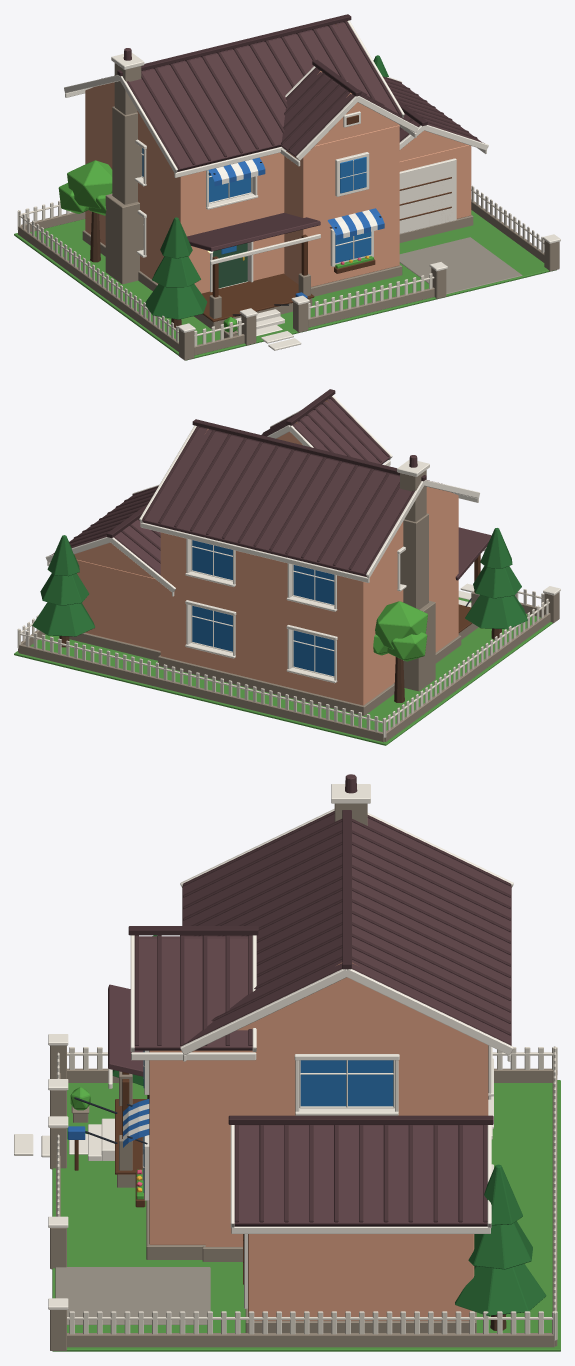
The model's file is 03_chalet-lod0.glb.
3 views of the same model, one above another, from view 1: azimuth 30°, elevation 25°; view 2: azimuth 150°, elevation 25°; view 3: azimuth 270°, elevation 25° (orthographic). The views are drawn at different scales.
Visible parts, largest first — view 1: ChaletJardin_LOD0; view 2: ChaletJardin_LOD0; view 3: ChaletJardin_LOD0.
Boxes of the visible parts, <box> form: ChaletJardin_LOD0: <box>14,14,560,360</box>; ChaletJardin_LOD0: <box>14,389,560,745</box>; ChaletJardin_LOD0: <box>14,774,560,1351</box>.
Size of the model in its own units: 16 by 9.23 by 13.55.
